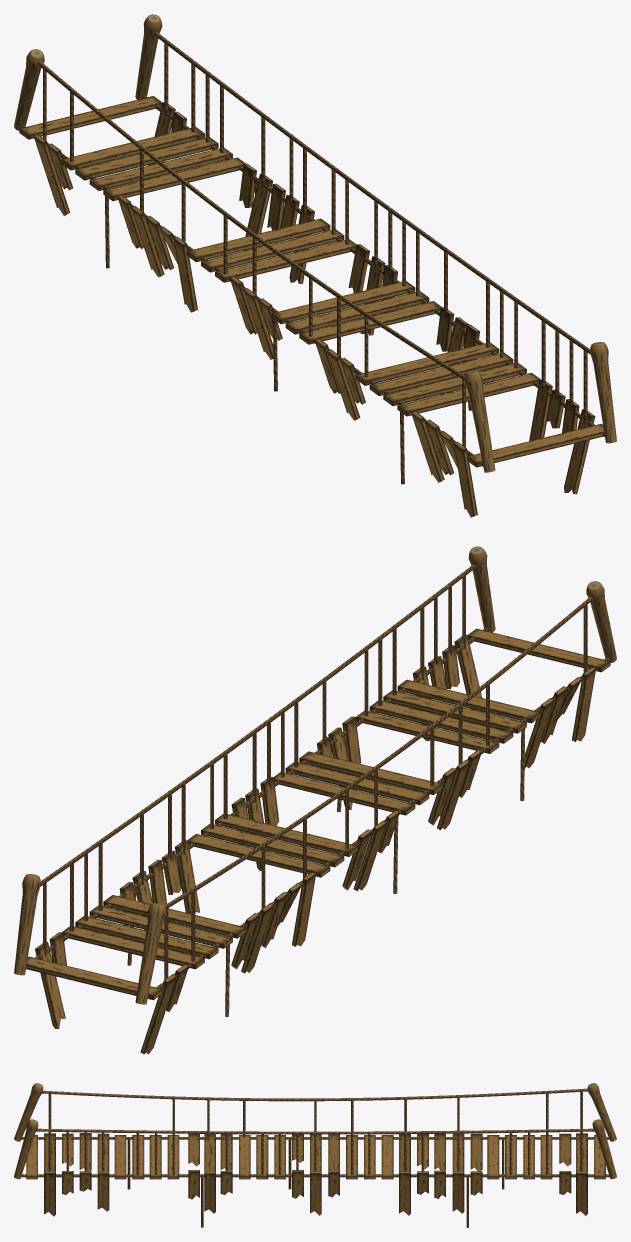
The model's file is puenteroto.fbx.
The picture shows the model from 3 angles, top to bottom: view 1: azimuth 30°, elevation 25°; view 2: azimuth 150°, elevation 25°; view 3: azimuth 270°, elevation 25°; orthographic projection. The views are drawn at different scales.
Visible parts, largest first — view 1: pCylinder74, pCylinder73, pCube8, pCube7, pCube22, pCube38, pCube35, pCube24, pCube32, pCube37, pCube29, pCube36 (+20 smaller); view 2: pCylinder74, pCylinder73, pCube18, pCube39, pCube40, pCube1, pCube36, pCube37, pCube41, pCube35, pCube8, pCube2 (+20 smaller); view 3: pCylinder74, pCylinder73, pCube32, pCube35, pCube40, pCylinder69, pCylinder72, pCylinder70, pCylinder71, pCube39, polySurface19, polySurface37 (+44 smaller).
Part boxes in pixels (x1,y1,x2,y2): pCylinder74: (154, 32, 590, 354); pCylinder73: (38, 61, 464, 380); pCube8: (369, 352, 513, 395); pCube7: (355, 342, 499, 385); pCube22: (61, 126, 204, 170); pCube38: (75, 137, 218, 180); pCube35: (186, 218, 330, 262); pCube24: (89, 147, 232, 190); pCube32: (103, 157, 245, 200); pCube37: (215, 239, 356, 282); pCube29: (19, 96, 162, 139); pCube36: (201, 229, 344, 272); pCylinder74: (40, 564, 476, 886); pCylinder73: (165, 596, 593, 909); pCube18: (467, 628, 610, 672); pCube39: (299, 751, 442, 794); pCube40: (397, 679, 540, 723); pCube1: (285, 762, 429, 805); pCube36: (201, 824, 344, 867); pCube37: (215, 814, 358, 856); pCube41: (383, 690, 526, 733); pCube35: (187, 834, 330, 877); pCube8: (369, 701, 513, 743); pCube2: (274, 772, 415, 815); pCylinder74: (36, 1128, 594, 1134); pCylinder73: (42, 1088, 587, 1101); pCube32: (487, 1135, 499, 1179); pCube35: (381, 1135, 393, 1179); pCube40: (114, 1135, 126, 1179); pCylinder69: (592, 1119, 616, 1179); pCylinder72: (14, 1119, 38, 1179); pCylinder70: (587, 1083, 616, 1141); pCylinder71: (14, 1083, 43, 1141); pCube39: (239, 1135, 250, 1179); polySurface19: (452, 1171, 464, 1213); polySurface37: (44, 1171, 55, 1216).
Size of the model in its own units: 4.54 by 5.26 by 27.13.
